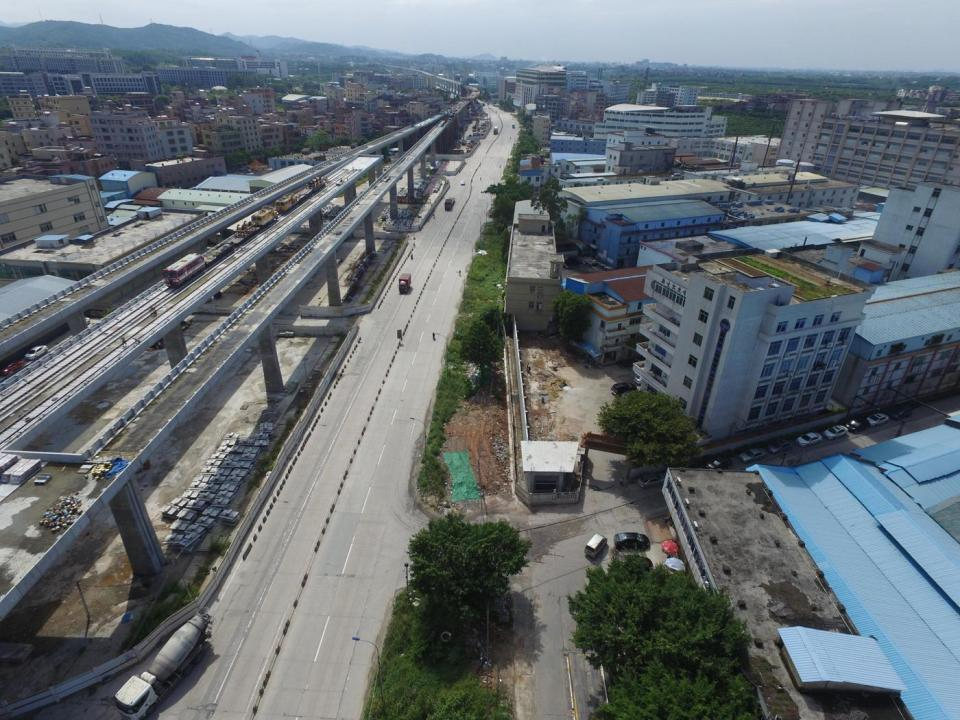car: (614, 532, 650, 551), (704, 457, 731, 474), (636, 473, 666, 488), (795, 430, 821, 446), (24, 345, 48, 362), (634, 369, 661, 384), (1, 359, 24, 376), (822, 424, 848, 439), (740, 447, 764, 463), (767, 439, 792, 454), (610, 382, 636, 396), (846, 418, 870, 432), (890, 406, 913, 420), (867, 413, 889, 426), (77, 317, 90, 326), (461, 179, 464, 185)
truck: (398, 273, 411, 293), (444, 197, 455, 210), (494, 126, 498, 135)
van: (584, 533, 608, 559), (512, 124, 514, 128)
